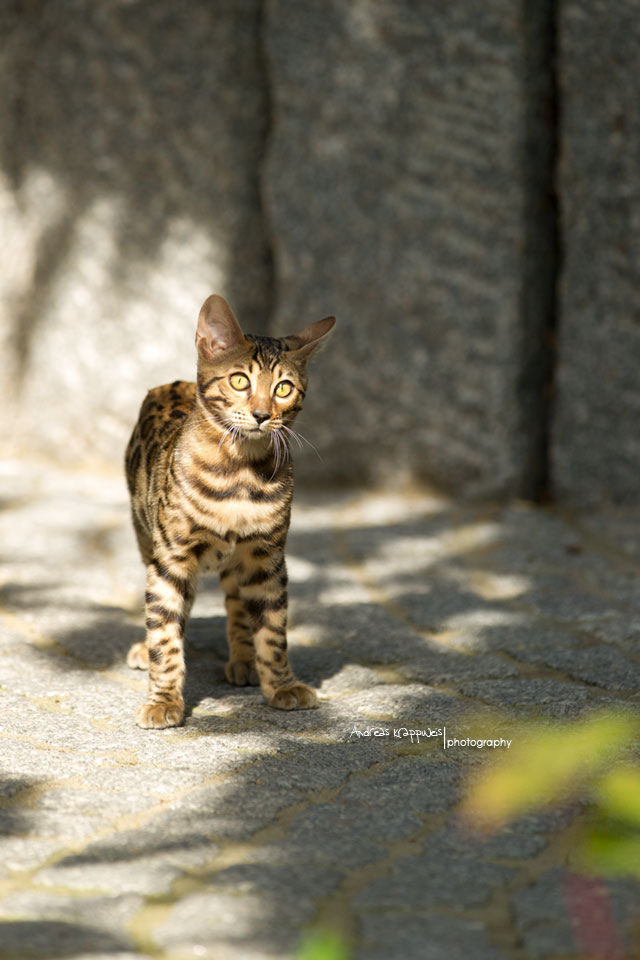Bengal: (103, 246, 360, 764)
